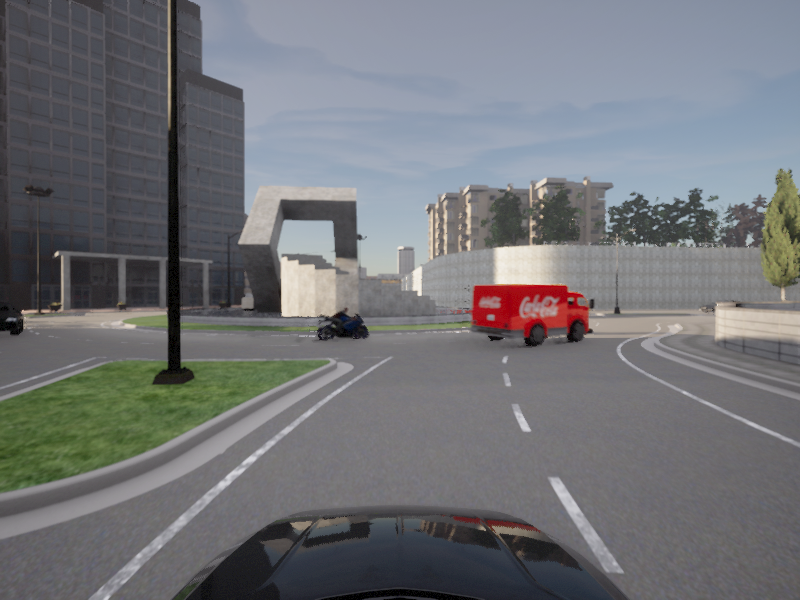vehicle: (467, 283, 602, 350), (317, 306, 368, 342), (0, 301, 25, 340)
